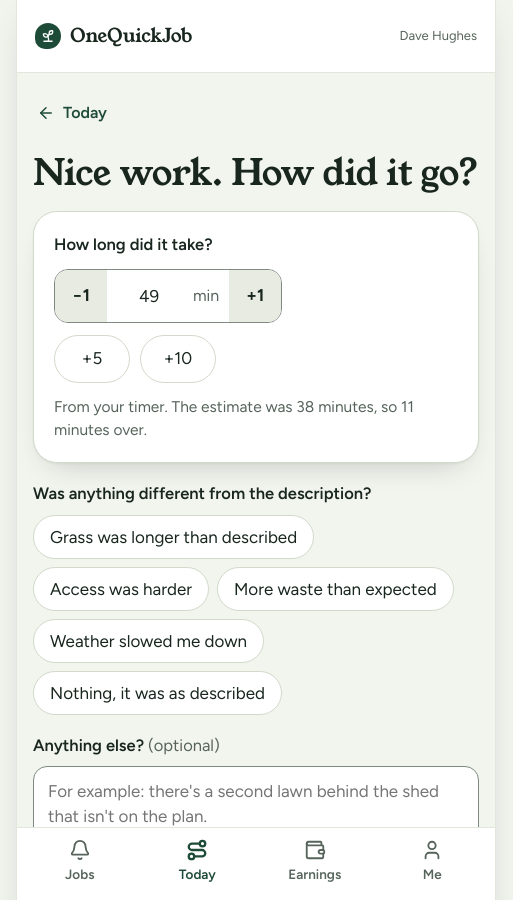
the provider app › finishes a job with exclusive flags and shows what's on its way
The width and height of the screenshot is (513, 900).
Expected: the text "From your timer. The estimate was 38 minutes, so 11 minutes over." is shown, left=54, top=395, right=458, bottom=442
Click the button "Grass was longer than described". click: point(174, 537)
box: left=33, top=515, right=314, bottom=559
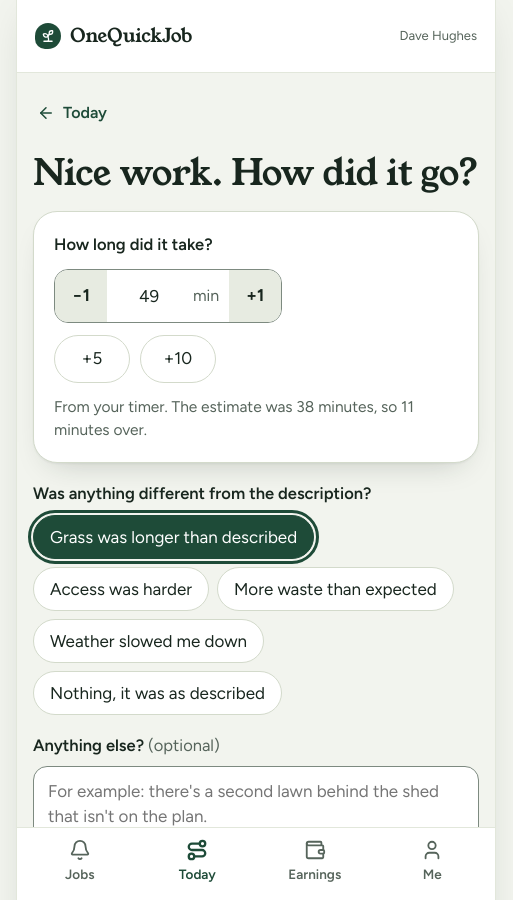
Click the button "Nothing, it was as described". click: point(157, 693)
box: left=33, top=671, right=282, bottom=715
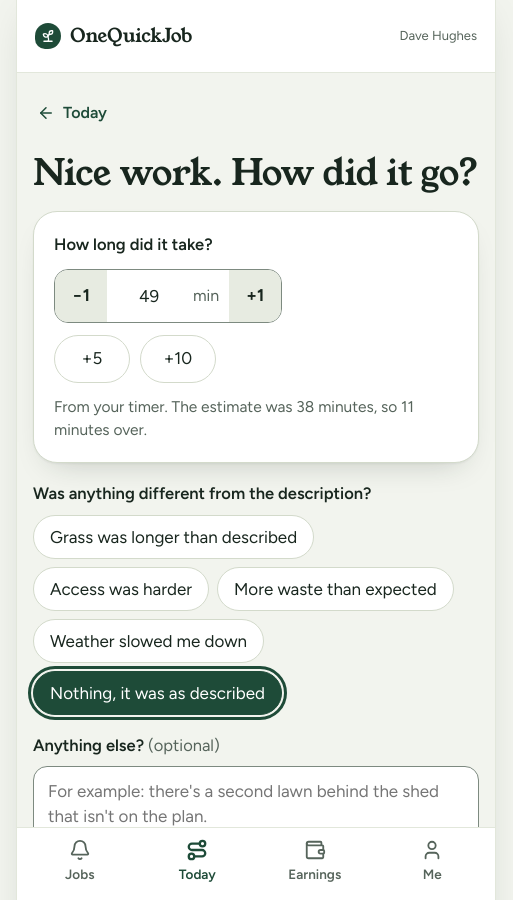
Expected: the button "Grass was longer than described" is not pressed, left=33, top=515, right=314, bottom=559
Click the button "Access was harder". click: point(121, 589)
box: left=33, top=567, right=209, bottom=611
(page scrolled)
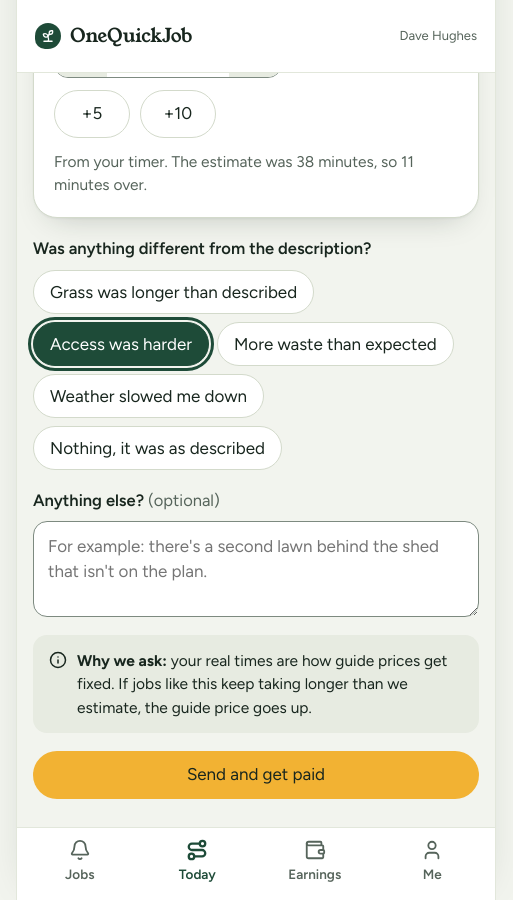
Click the button "Send and get paid". click: point(256, 775)
box: left=33, top=751, right=479, bottom=799
(page scrolled)
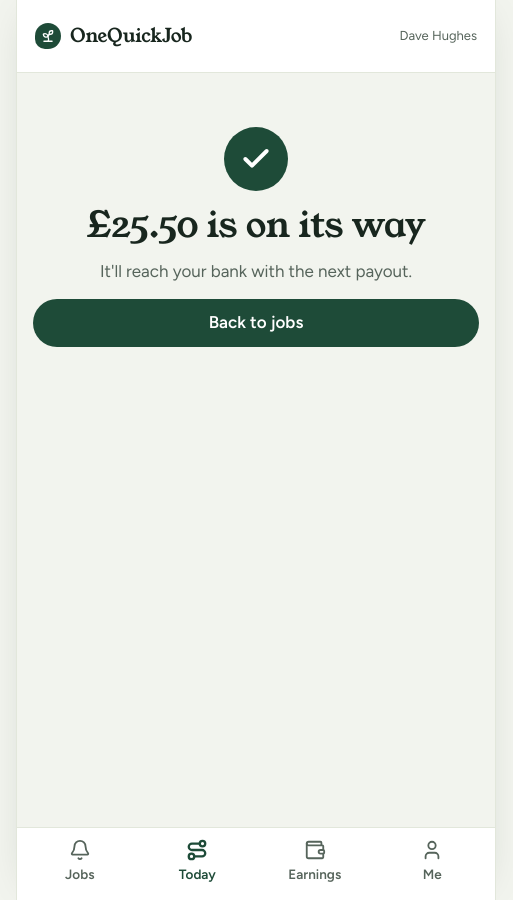
Expected: the heading "£25.50 is on its way" is shown, left=86, top=205, right=426, bottom=245
